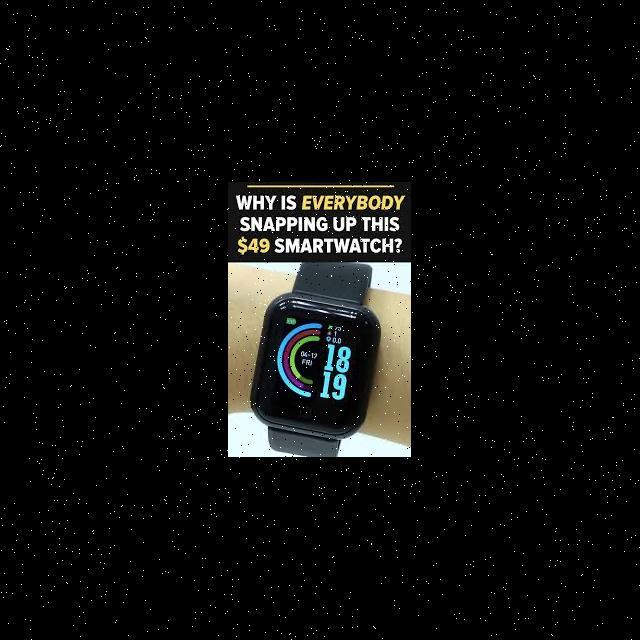watch: (257, 257, 390, 465)
